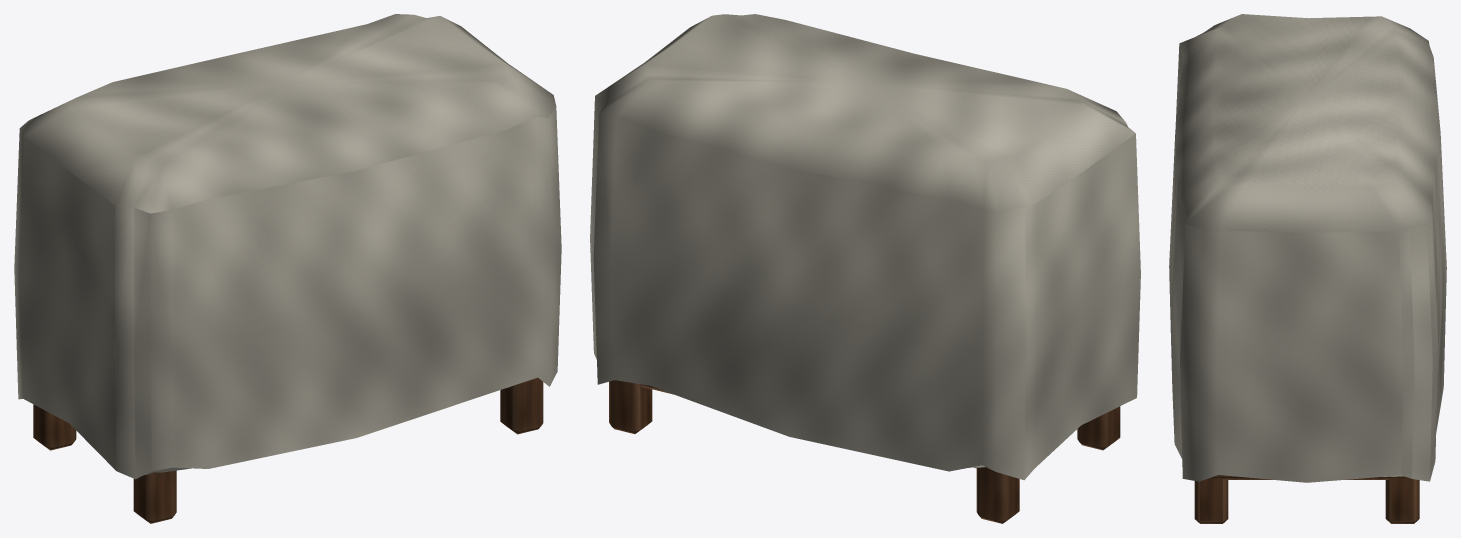
The model's file is Furn_Vacant_CoveredFurniture.fbx.
3 renders of one model, left to right at view 1: azimuth 30°, elevation 25°; view 2: azimuth 150°, elevation 25°; view 3: azimuth 270°, elevation 25°, orthographic. The views are drawn at different scales.
Visible parts, largest first — view 1: Furn_Vacant_CoveredFurniture; view 2: Furn_Vacant_CoveredFurniture; view 3: Furn_Vacant_CoveredFurniture.
Part boxes in pixels (bbox=[...]): Furn_Vacant_CoveredFurniture: bbox=[14, 14, 561, 523]; Furn_Vacant_CoveredFurniture: bbox=[590, 14, 1140, 523]; Furn_Vacant_CoveredFurniture: bbox=[1169, 14, 1446, 523].
Size of the model in its own units: 1.6 by 1.2 by 0.9.
Materials: 2 (2 with a texture image).
